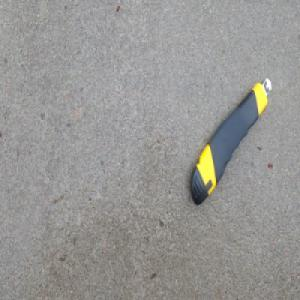Cutter: (189, 77, 272, 207)
